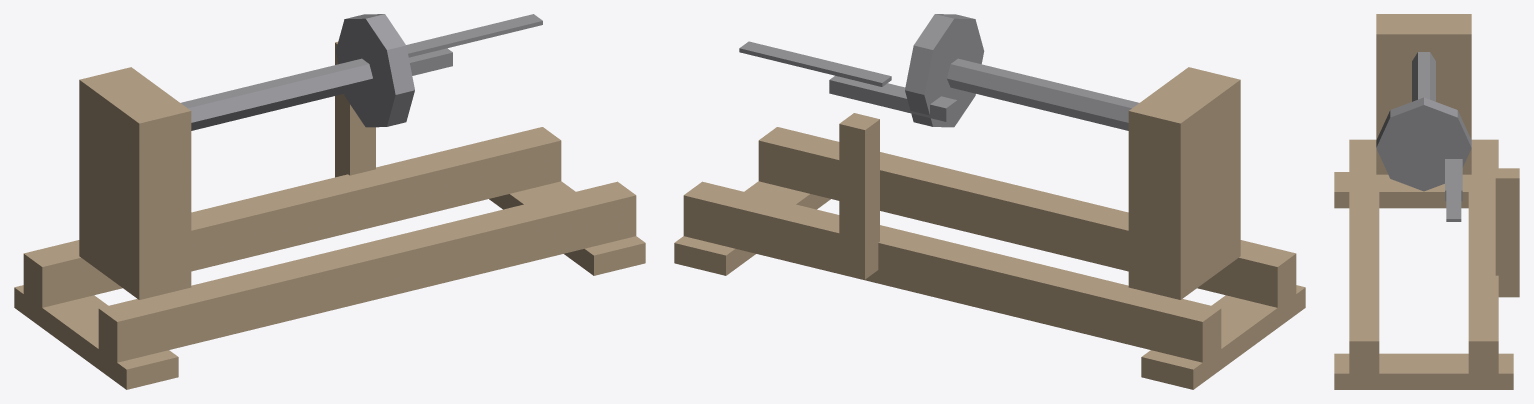
File: prop-tuning-lathe-blank.fbx
3 views of the same model, side by side, from view 1: azimuth 30°, elevation 25°; view 2: azimuth 150°, elevation 25°; view 3: azimuth 270°, elevation 25° (orthographic). The views are drawn at different scales.
Visible parts, largest first — view 1: prop-tuning-lathe-blank; view 2: prop-tuning-lathe-blank; view 3: prop-tuning-lathe-blank.
Boxes of the visible parts, x1,y1,x2,y2 form: prop-tuning-lathe-blank: (14,14,645,389); prop-tuning-lathe-blank: (674,14,1305,389); prop-tuning-lathe-blank: (1334,14,1519,389).
Size of the model in its own units: 80 by 38 by 31.
